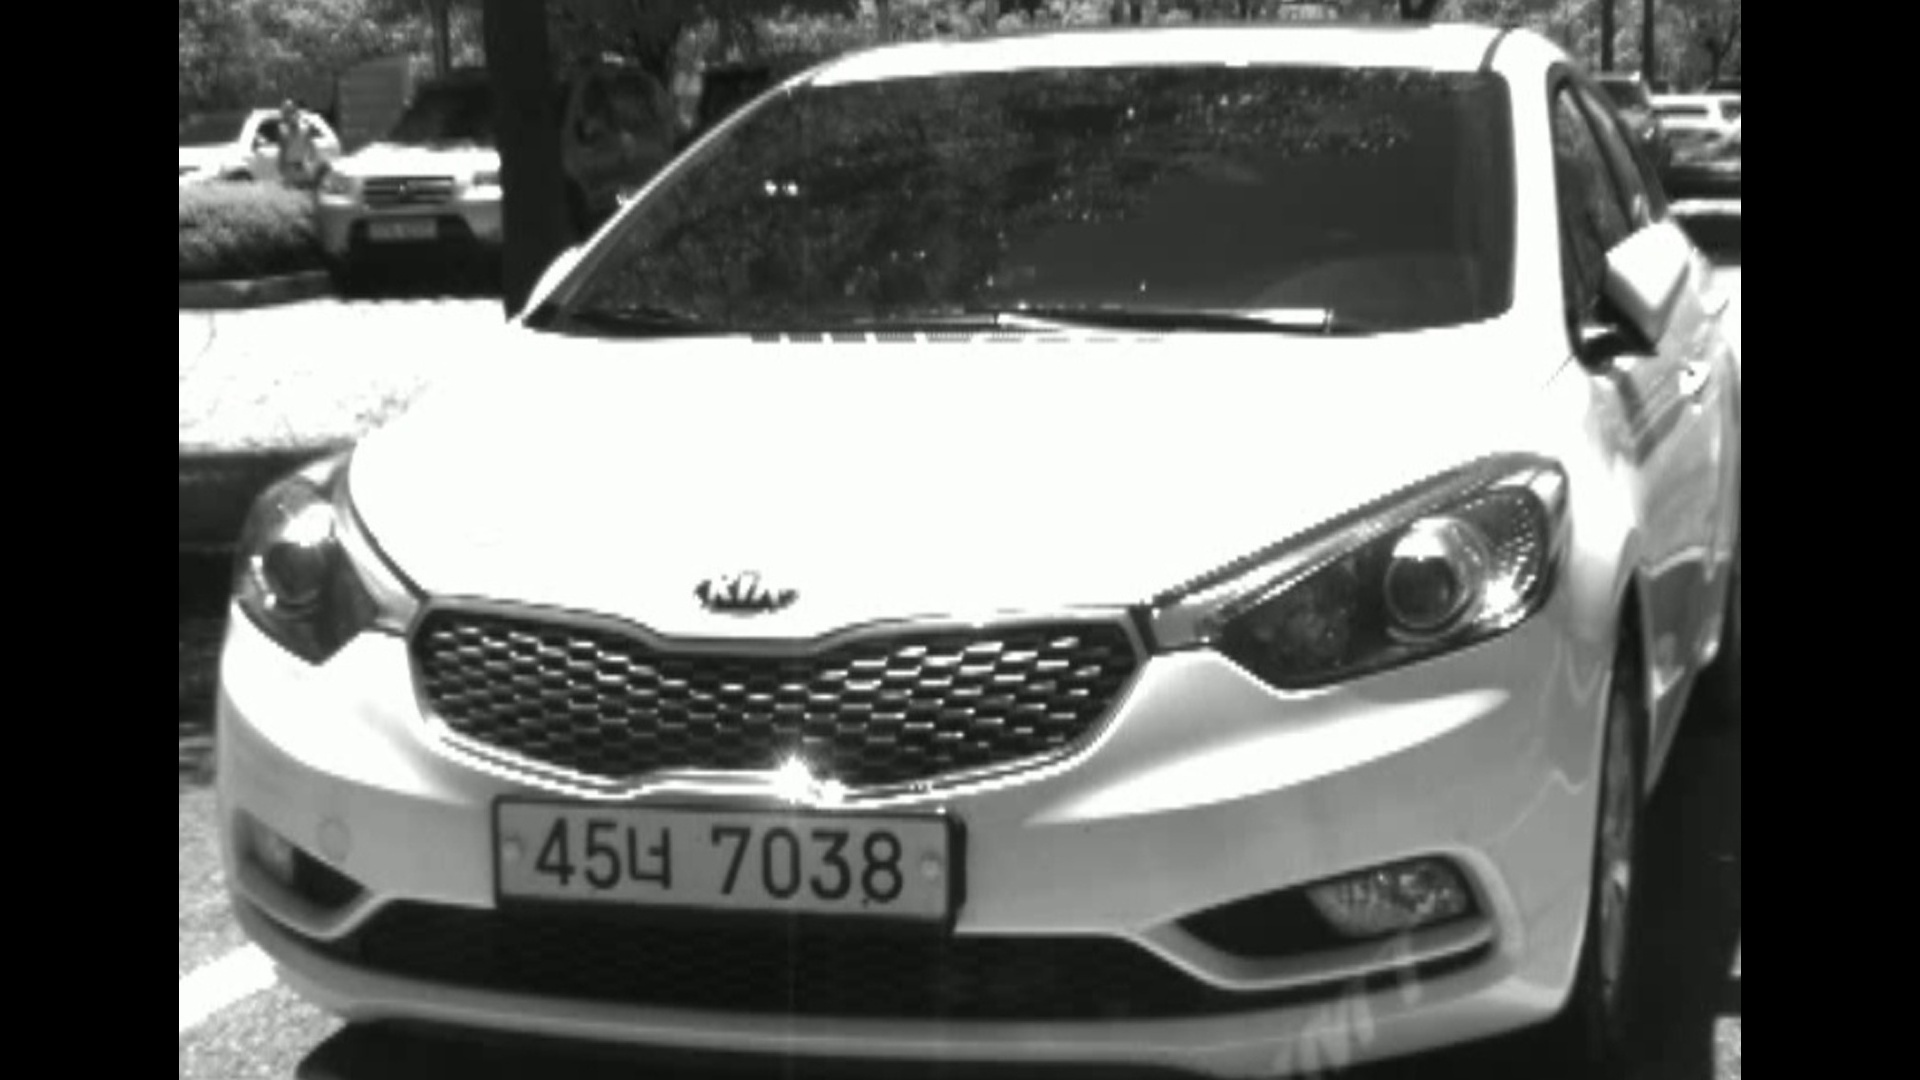license_plate: (485, 794, 962, 922)
